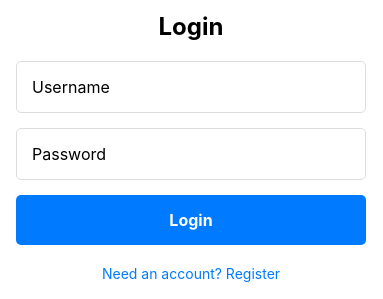
Test: LoginScreen › switches to register form when register link is clicked
Step 1. Click the text "Need an account? Register" → (191,274), box [102,265,280,282]
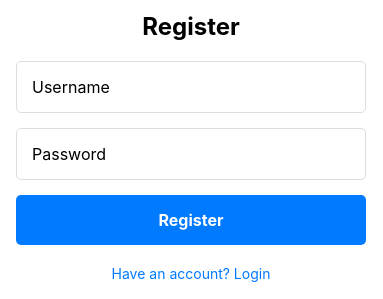
Expected: the 2nd text "Register" is shown, [158,210,224,230]
Expected: the text "Have an account? Login" is shown, [112,265,270,282]
